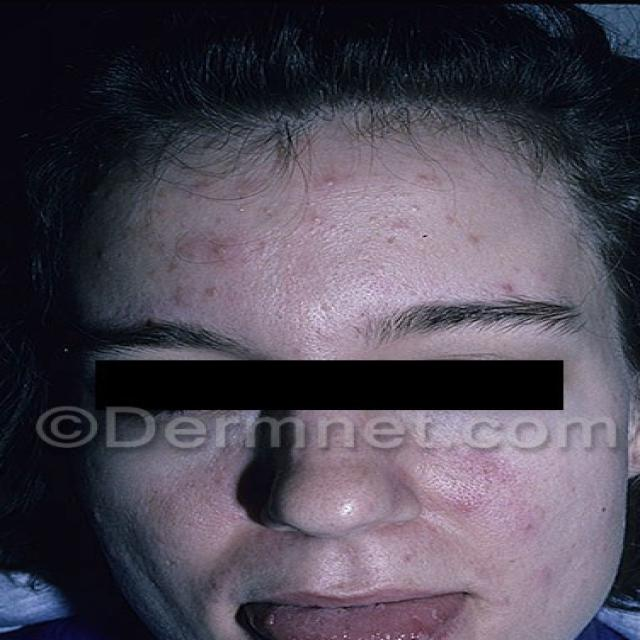Vascular Tumors: (130, 171, 552, 299), (419, 441, 597, 601), (107, 469, 240, 586)
